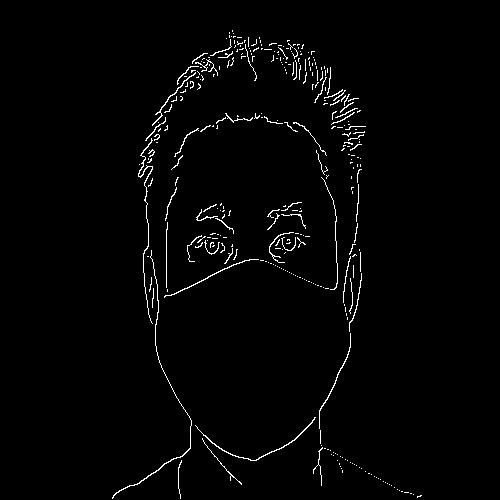mask: (155, 268, 355, 458)
